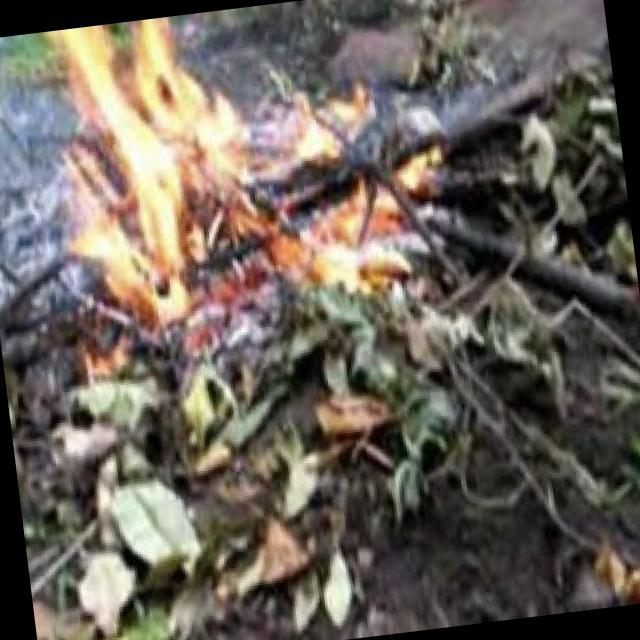Fire: (24, 0, 476, 404)
